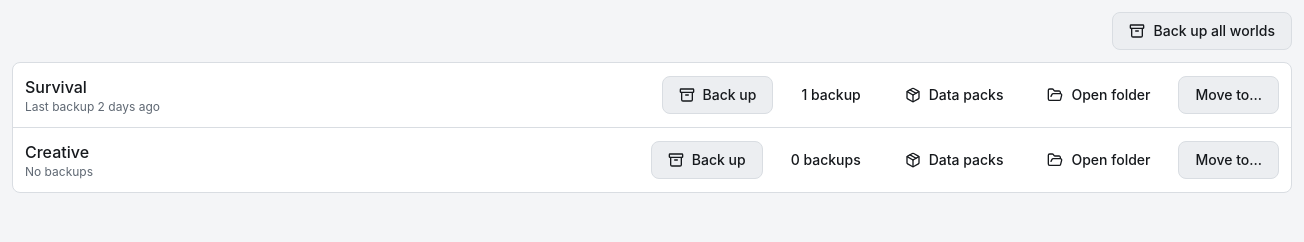
Scenario: WorldsTab backups › backs up one world and says which ones hadn't changed
This screenshot has width=1304, height=242.
Click the button "Back up" in the row of "Survival" at (718, 95), box [662, 76, 774, 114]
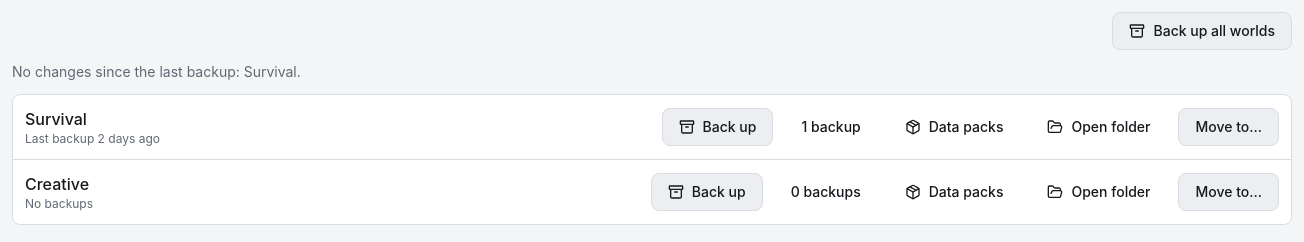
Expected: the text "No changes since the last backup: Survival." is shown, [12, 63, 301, 80]
